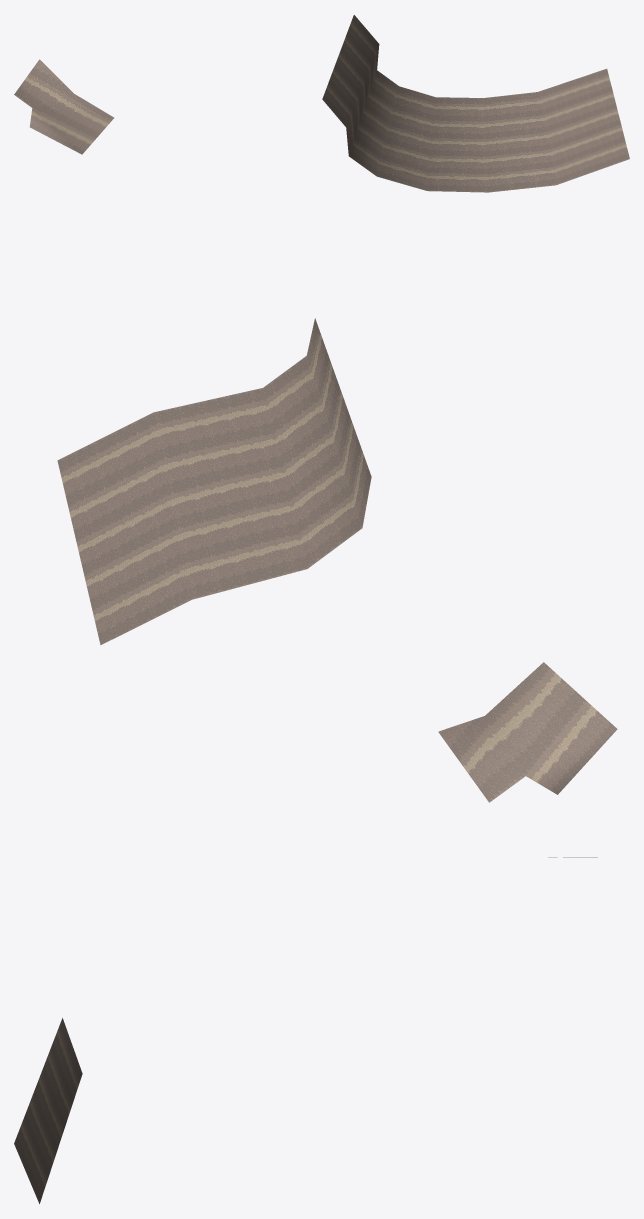
Rendered from kd_stage_1366d7_21_1_bounded.glb.
3 renders of one model, top to bottom at view 1: azimuth 30°, elevation 25°; view 2: azimuth 150°, elevation 25°; view 3: azimuth 270°, elevation 25°, orthographic. The views are drawn at different scales.
Visible parts, largest first — view 1: kd_stage_1366d7_21_1_bounded; view 2: kd_stage_1366d7_21_1_bounded; view 3: kd_stage_1366d7_21_1_bounded.
Boxes of the visible parts, box(x1,y1,x2,y2) form: kd_stage_1366d7_21_1_bounded: box(14, 15, 629, 192); kd_stage_1366d7_21_1_bounded: box(57, 318, 617, 802); kd_stage_1366d7_21_1_bounded: box(14, 857, 597, 1203).
Size of the model in its own units: 59.1 by 10.79 by 48.42.
Materials: 1 (1 with a texture image).
